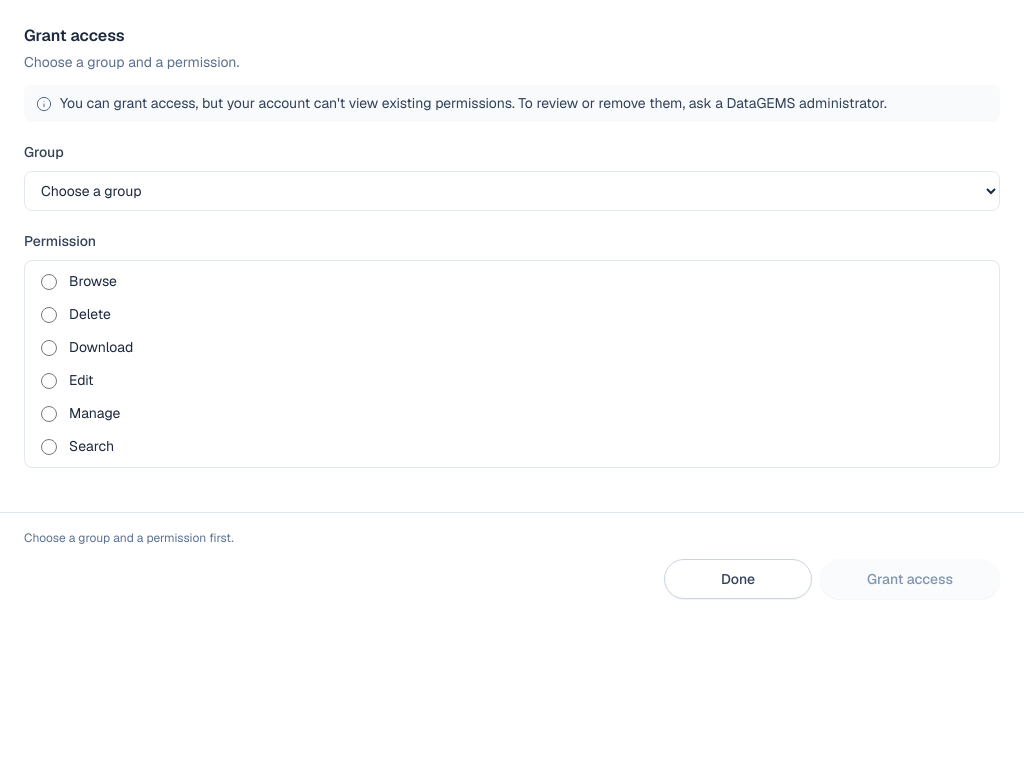
DatasetAccessView — the grant-only presentation › confirms an elevated role before sending it
Select "Baltic Modelling Team" in the dropdown labelled "Group" at (512, 191), box x1=24 y1=171 x2=1000 y2=211
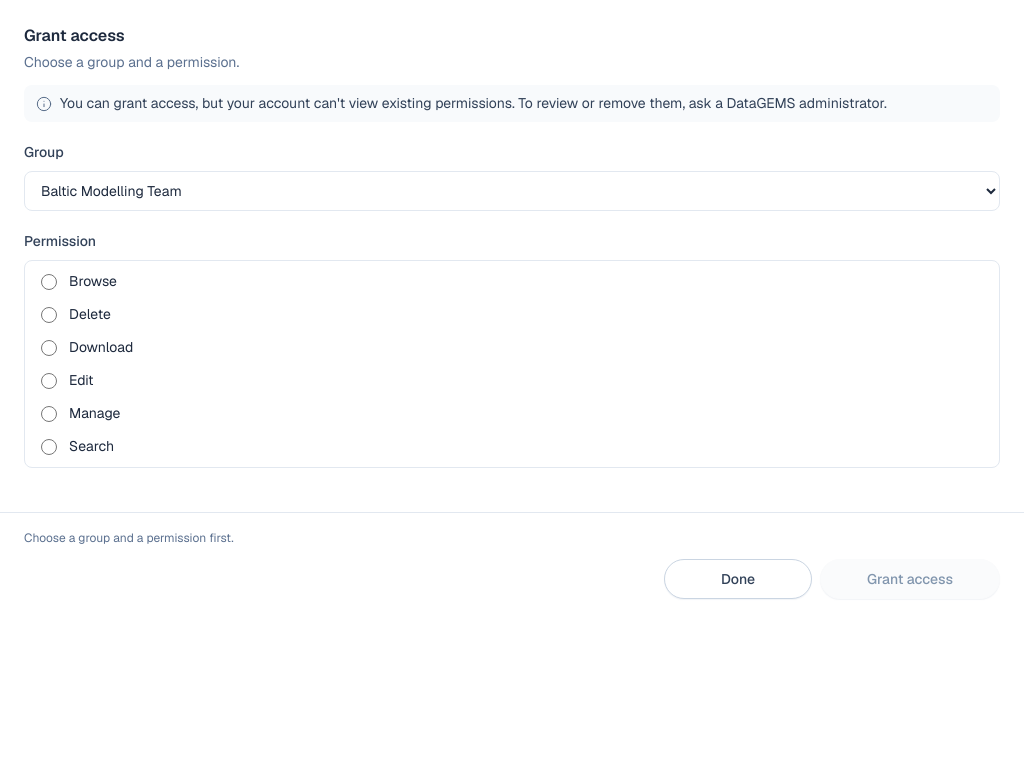
Click the radio button labelled "Manage" at (49, 414), box x1=41 y1=406 x2=57 y2=422
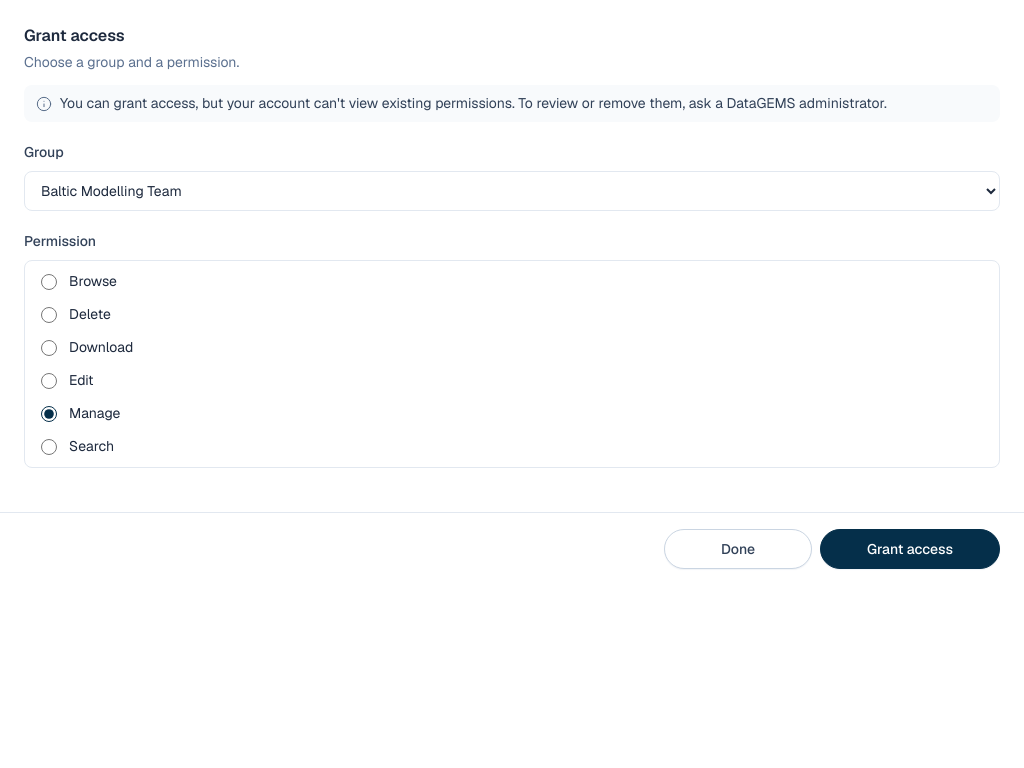
Click the button "Grant access" at (910, 549), box x1=820 y1=529 x2=1000 y2=569
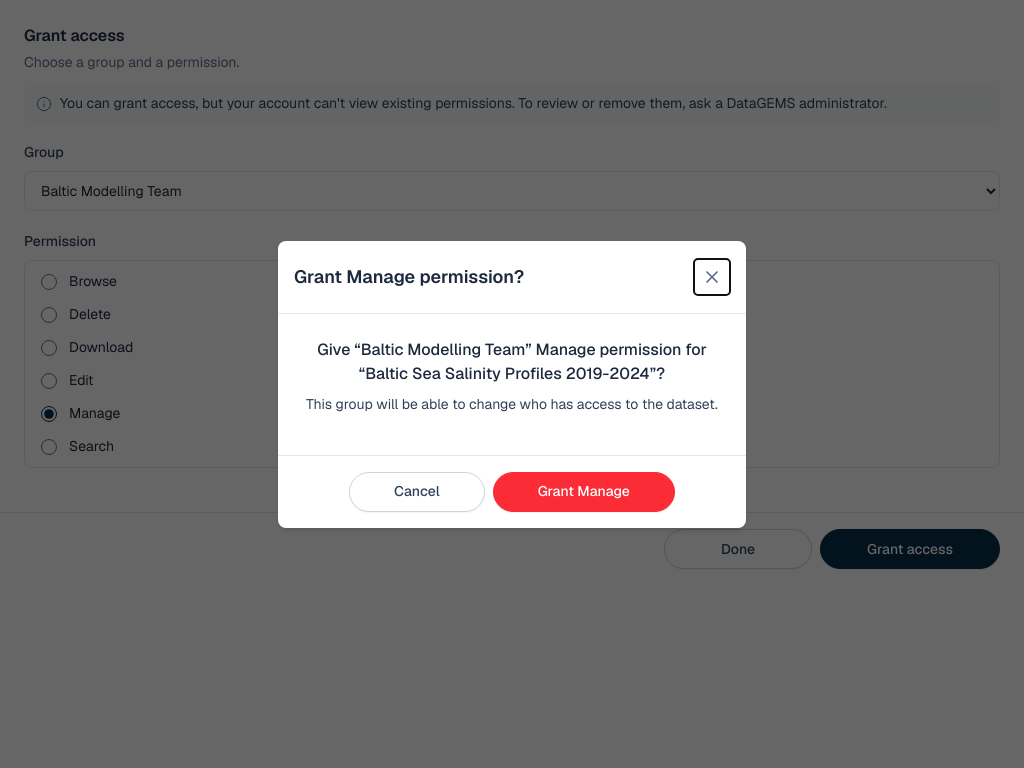
Now the text "change who has access to the dataset" is shown, box x1=306 y1=394 x2=718 y2=412
